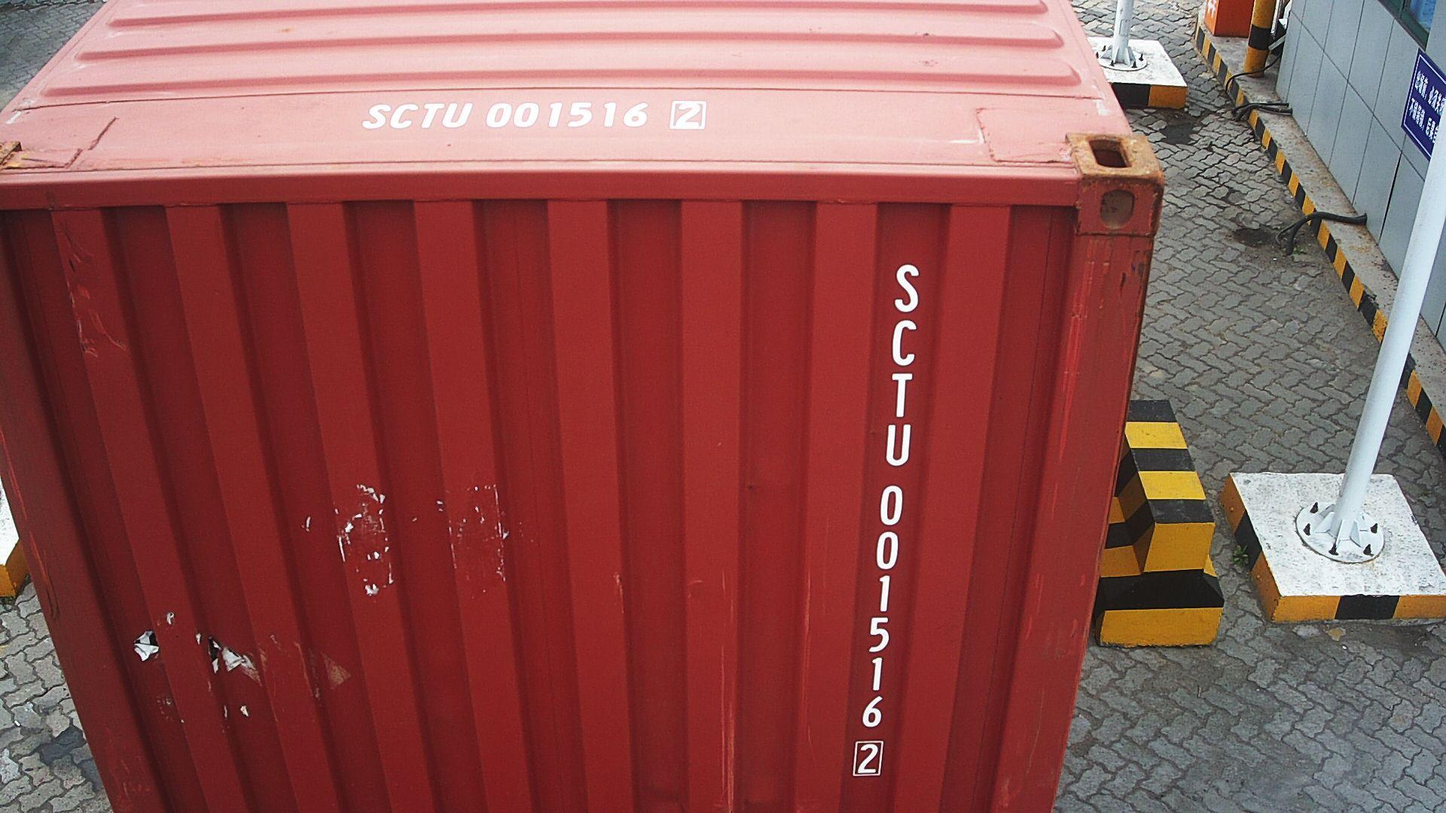container-numbers: (847, 261, 929, 782), (349, 96, 712, 133)
